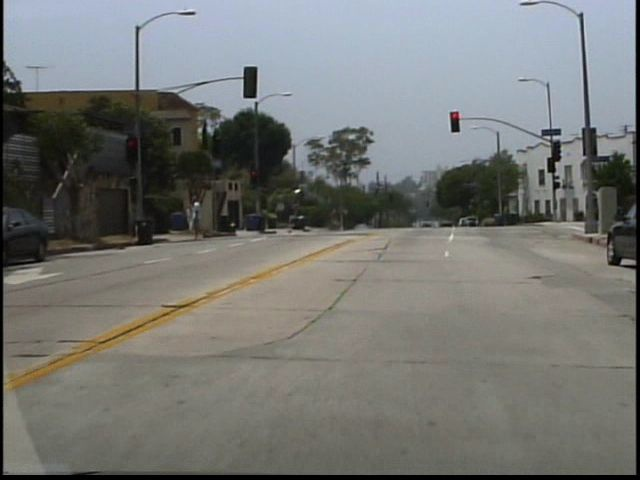person: (194, 196, 212, 241), (191, 203, 201, 238)
